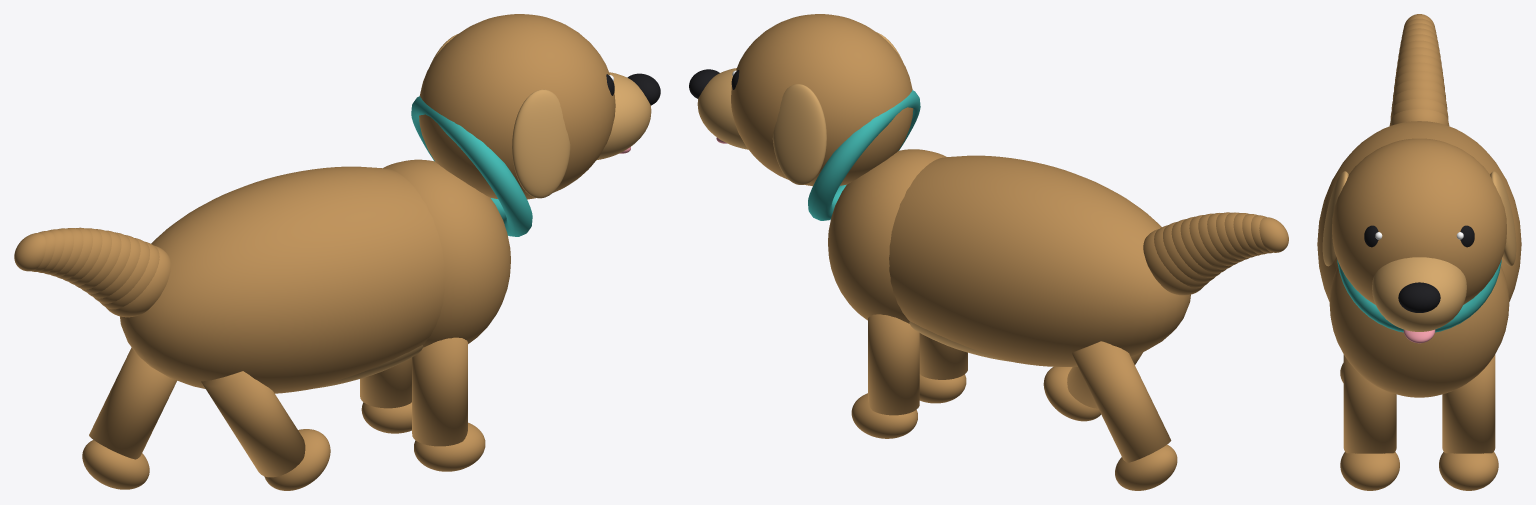
Rendered from labrador.glb.
The picture shows the model from 3 angles, left to right: view 1: azimuth 30°, elevation 25°; view 2: azimuth 150°, elevation 25°; view 3: azimuth 270°, elevation 25°; orthographic projection. The views are drawn at different scales.
Parts seen in each view (by area): view 1: Body, Head, Chest, Leg3, Leg1, Leg2, Ear-1, Collar, Muzzle, Paw2, Leg0, Paw1 (+8 smaller); view 2: Body, Head, Chest, Leg2, Leg0, Ear1, Collar, Muzzle, Paw2, Leg1, Paw0, Paw3 (+7 smaller); view 3: Head, Chest, Muzzle, Body, Leg0, Leg1, Paw0, Paw1, Collar, Nose, Ear1, Ear-1 (+14 smaller).
Boxes of the visible parts, x1,y1,x2,y2 form: Body: [120, 166, 445, 393]; Head: [419, 14, 615, 199]; Chest: [383, 159, 510, 347]; Leg3: [201, 371, 305, 477]; Leg1: [412, 337, 467, 446]; Leg2: [89, 347, 176, 459]; Ear-1: [512, 89, 570, 198]; Collar: [411, 96, 532, 236]; Muzzle: [596, 72, 651, 160]; Paw2: [82, 440, 149, 489]; Leg0: [360, 357, 411, 408]; Paw1: [414, 422, 485, 471]; Body: [889, 155, 1190, 366]; Head: [731, 14, 913, 186]; Chest: [828, 149, 946, 323]; Leg2: [1072, 341, 1171, 462]; Leg0: [868, 314, 919, 415]; Ear1: [772, 84, 826, 184]; Collar: [808, 90, 920, 220]; Muzzle: [697, 68, 748, 149]; Paw2: [1115, 444, 1177, 490]; Leg1: [919, 333, 967, 379]; Paw0: [851, 393, 917, 438]; Paw3: [1043, 367, 1101, 421]; Head: [1332, 138, 1506, 304]; Chest: [1329, 266, 1509, 397]; Muzzle: [1372, 257, 1466, 331]; Body: [1317, 121, 1521, 301]; Leg0: [1442, 354, 1495, 453]; Leg1: [1343, 354, 1396, 453]; Paw0: [1439, 452, 1498, 490]; Paw1: [1340, 452, 1399, 490]; Collar: [1337, 260, 1501, 332]; Nose: [1398, 282, 1440, 312]; Ear1: [1490, 171, 1516, 266]; Ear-1: [1322, 171, 1348, 266].
Size of the model in its own units: 1.99 by 1.2 by 0.58.
